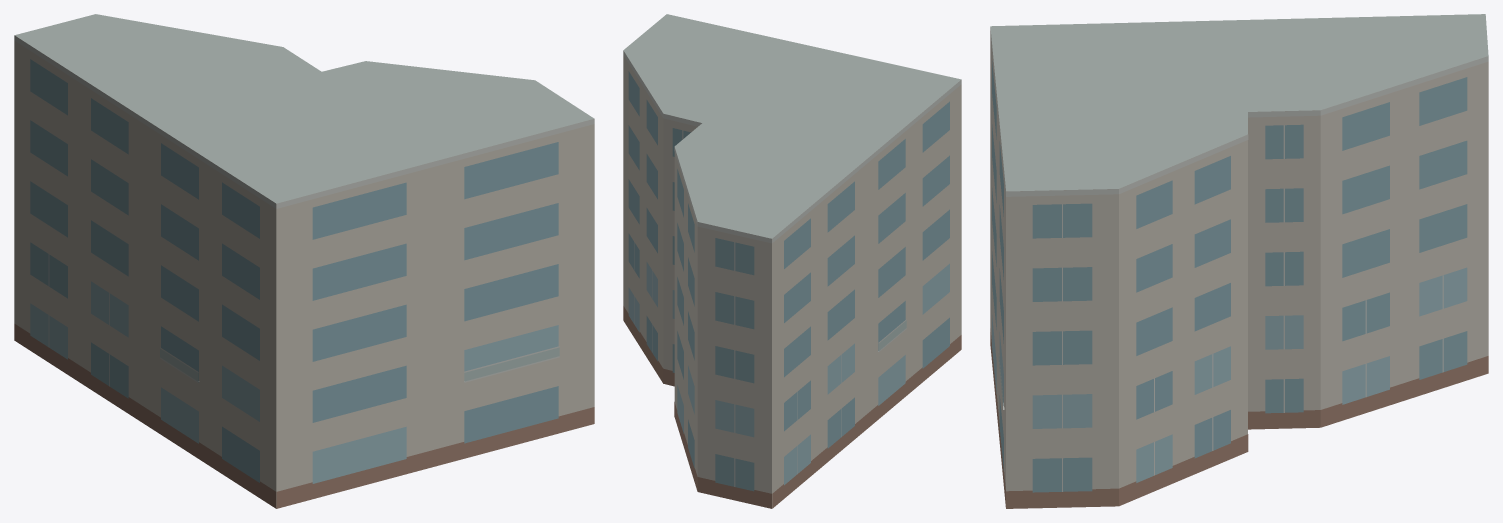
The model's file is survey-upis-33005043.glb.
3 views of the same model, side by side, from view 1: azimuth 30°, elevation 25°; view 2: azimuth 150°, elevation 25°; view 3: azimuth 270°, elevation 25° (orthographic). The views are drawn at different scales.
Parts seen in each view (by area): view 1: survey-upis-33005043.tmp; view 2: survey-upis-33005043.tmp; view 3: survey-upis-33005043.tmp.
Boxes of the visible parts, x1,y1,x2,y2 form: survey-upis-33005043.tmp: [14, 14, 594, 508]; survey-upis-33005043.tmp: [623, 14, 961, 508]; survey-upis-33005043.tmp: [990, 14, 1488, 508].
Size of the model in its own units: 16.91 by 14.1 by 20.07.
